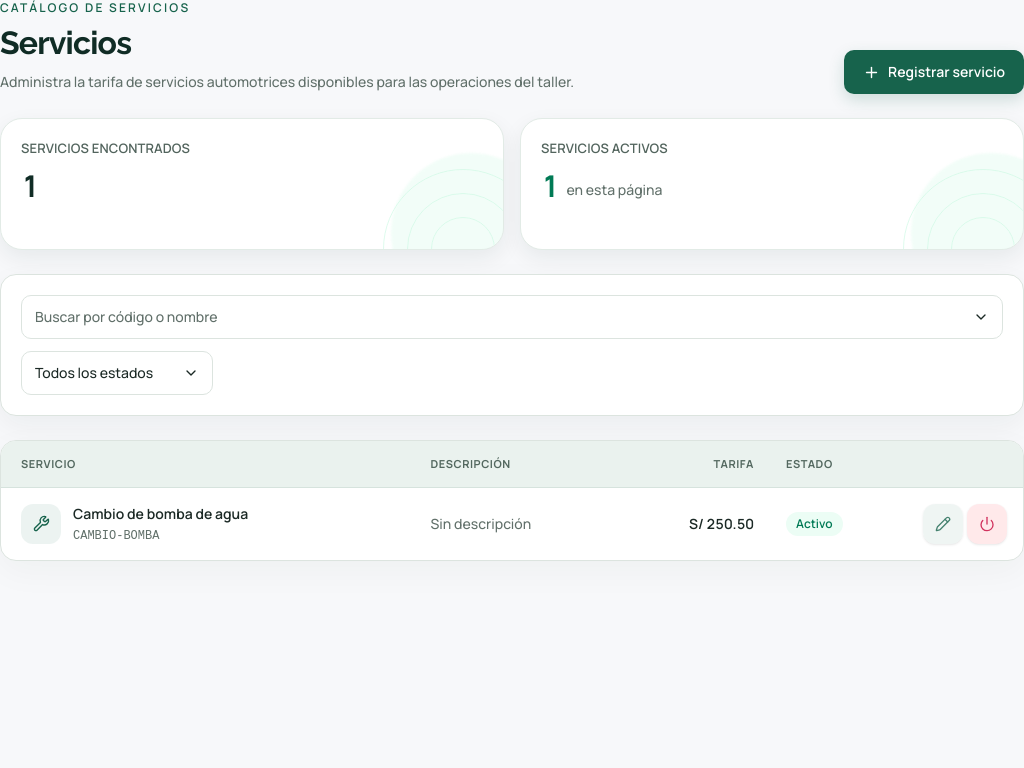
Test: Página de servicios › confirma el cambio de estado con el diálogo de confirmación
Click the button named "Desactivar Cambio de bomba de agua": (987, 524) [967,504,1007,544]
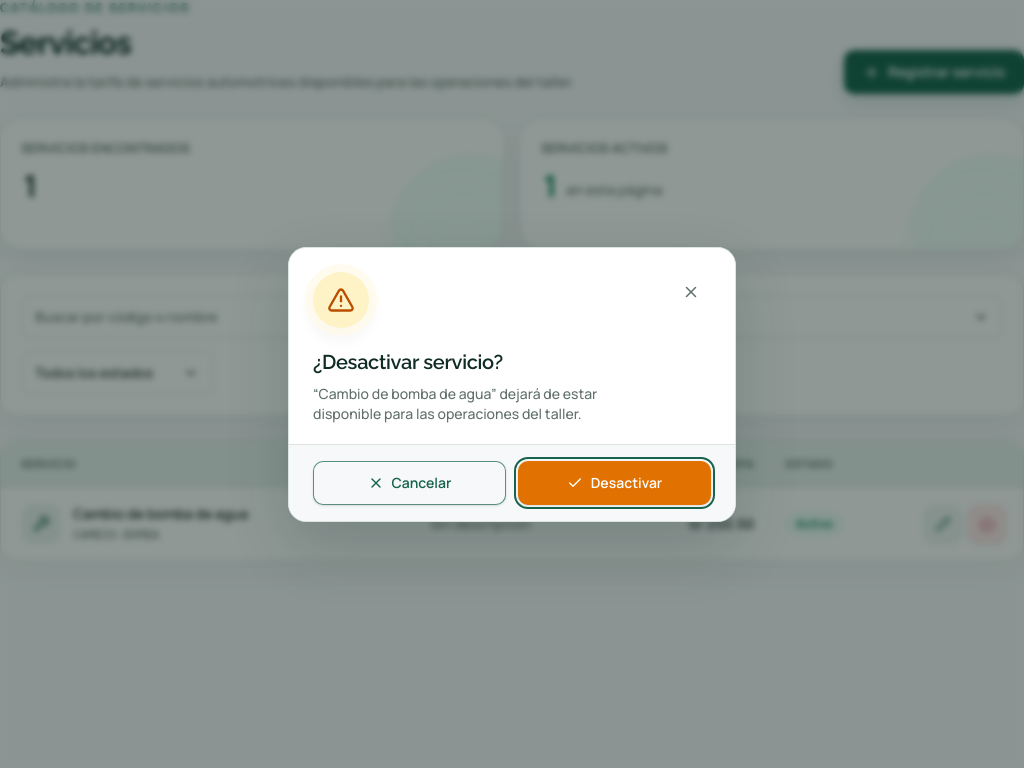
Result: the heading "¿Desactivar servicio?" is shown at [313,350,503,374]
